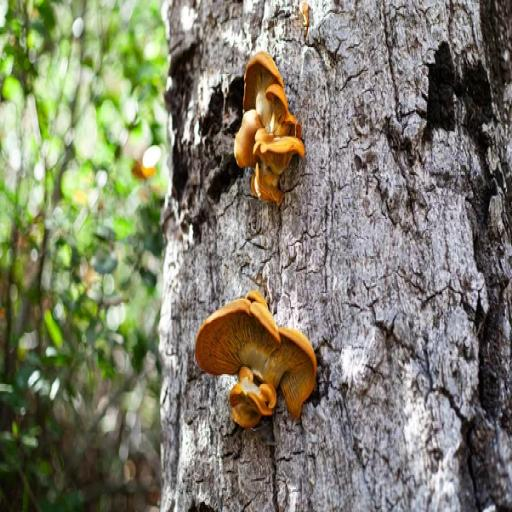Jack O Lantern Mushroom: (177, 276, 346, 457), (201, 46, 332, 223)
